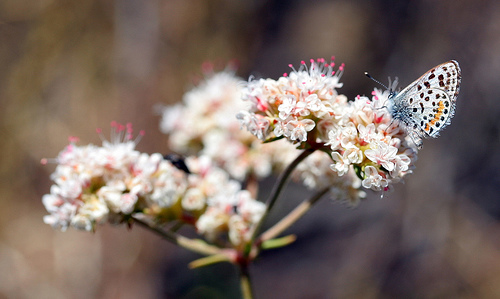dandelion: (26, 32, 480, 278)
